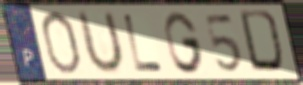5: (202, 12, 244, 74)
D: (237, 8, 288, 77)
G: (162, 10, 206, 76)
L: (122, 12, 166, 73)
O: (38, 9, 83, 76)
U: (76, 8, 126, 77)
